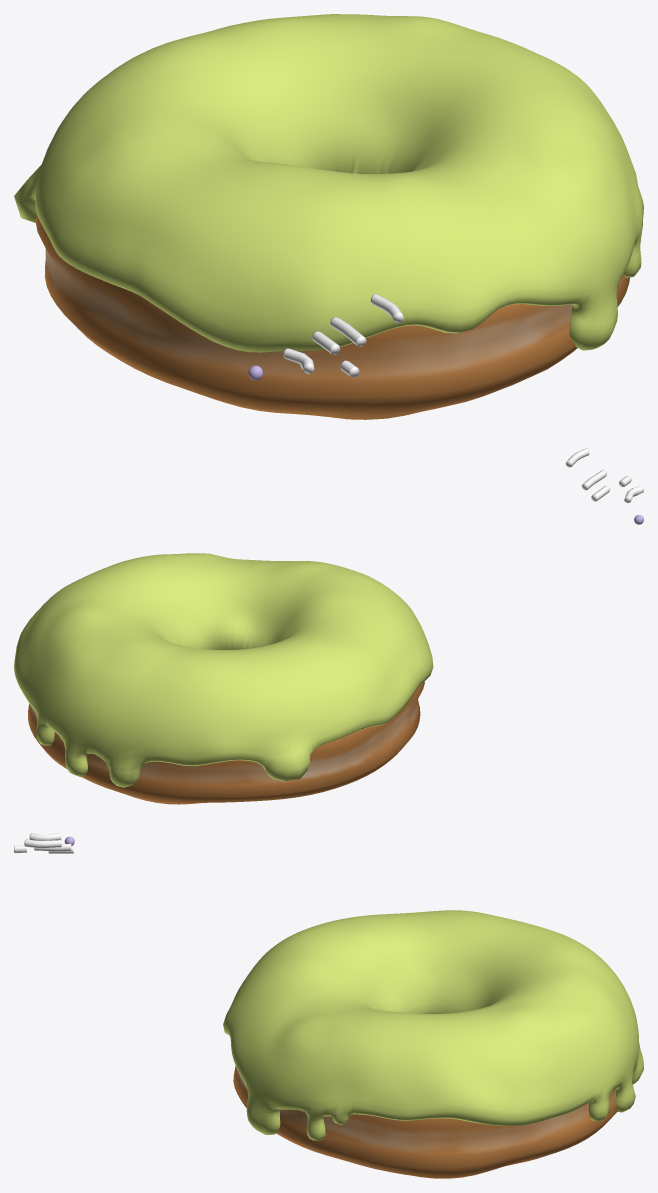
Rendered from donut-combined.gltf.
3 renders of one model, top to bottom at view 1: azimuth 30°, elevation 25°; view 2: azimuth 150°, elevation 25°; view 3: azimuth 270°, elevation 25°, orthographic. The views are drawn at different scales.
Parts seen in each view (by area): view 1: Icing, Donut; view 2: Icing, Donut; view 3: Icing, Donut.
Boxes of the visible parts, <box> form: Icing: <box>14,14,643,352</box>; Donut: <box>35,213,629,419</box>; Icing: <box>14,553,433,787</box>; Donut: <box>28,681,424,804</box>; Icing: <box>223,910,643,1140</box>; Donut: <box>233,1066,617,1178</box>.
Bounding box in the file's own units: 0.1274 × 0.0585 × 0.1638.
4 materials, 1 textured.
